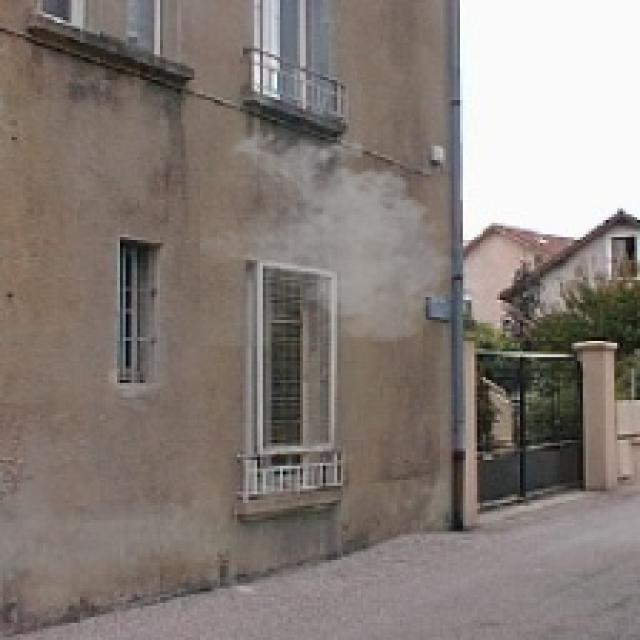Smoke: (200, 125, 466, 348)
